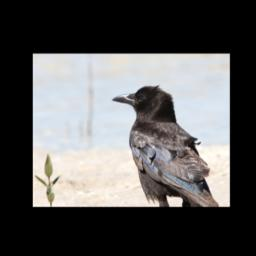Crow: (110, 84, 219, 207)
